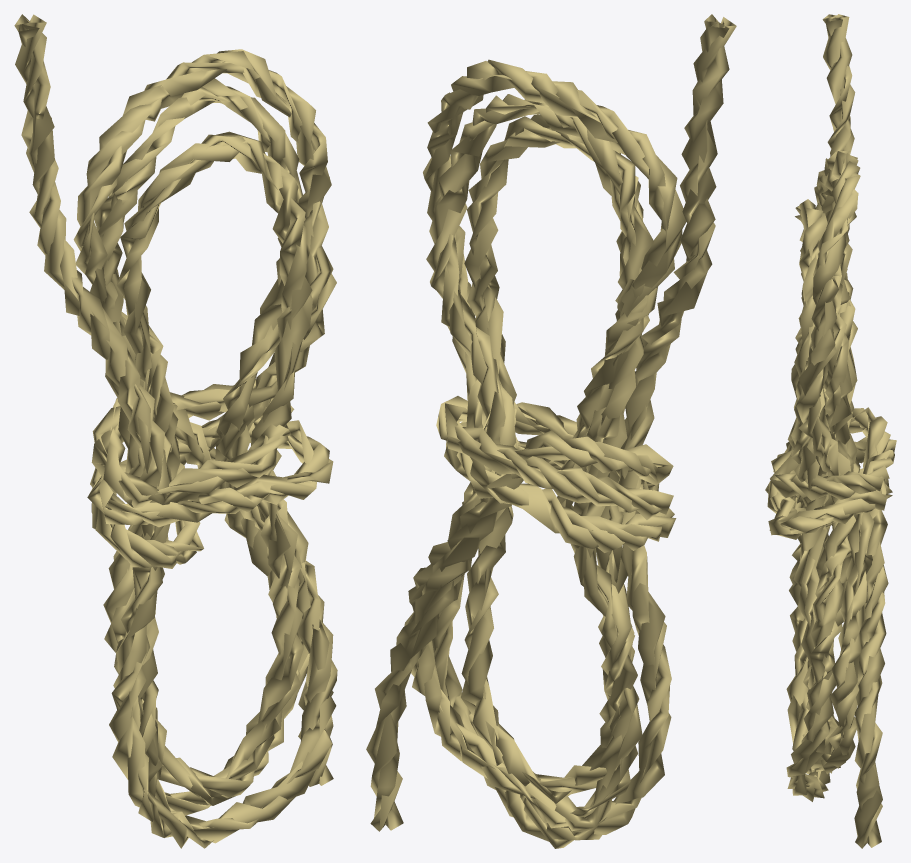
The model's file is rope_coil.glb.
3 renders of one model, left to right at view 1: azimuth 30°, elevation 25°; view 2: azimuth 150°, elevation 25°; view 3: azimuth 270°, elevation 25°, orthographic. The views are drawn at different scales.
Parts seen in each view (by area): view 1: rope_coil; view 2: rope_coil; view 3: rope_coil.
Boxes of the visible parts, x1,y1,x2,y2 form: rope_coil: (14,14,337,848); rope_coil: (366,14,736,848); rope_coil: (765,14,896,848).
Size of the model in its own units: 0.1392 by 0.3398 by 0.057.
